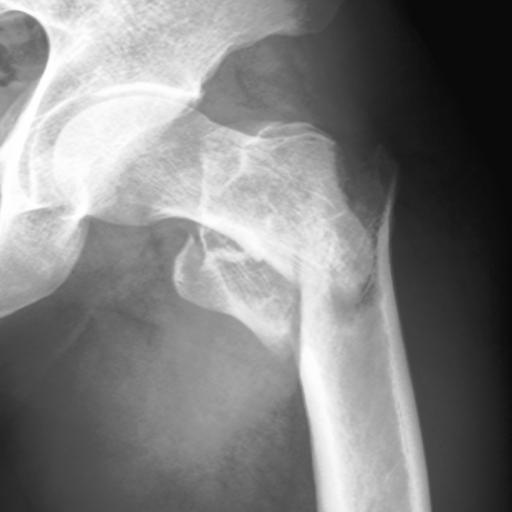subtrochanteric: (54, 96, 374, 358), (300, 143, 420, 418)
